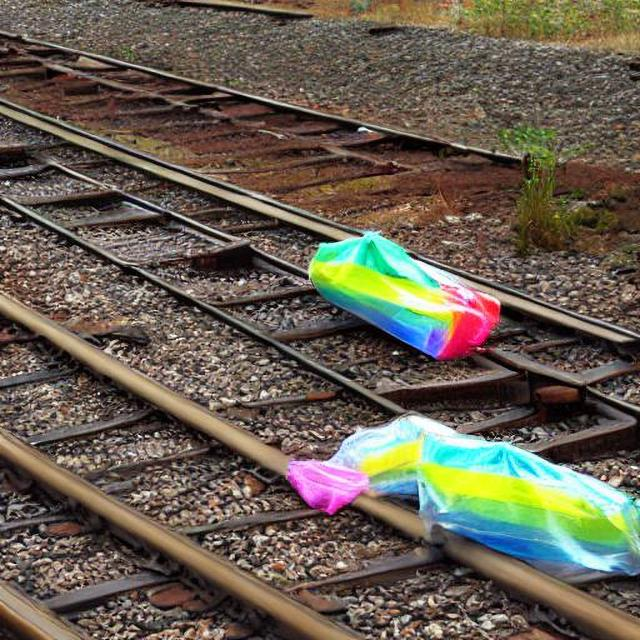plastic bag: (277, 417, 631, 575), (310, 233, 498, 358)
